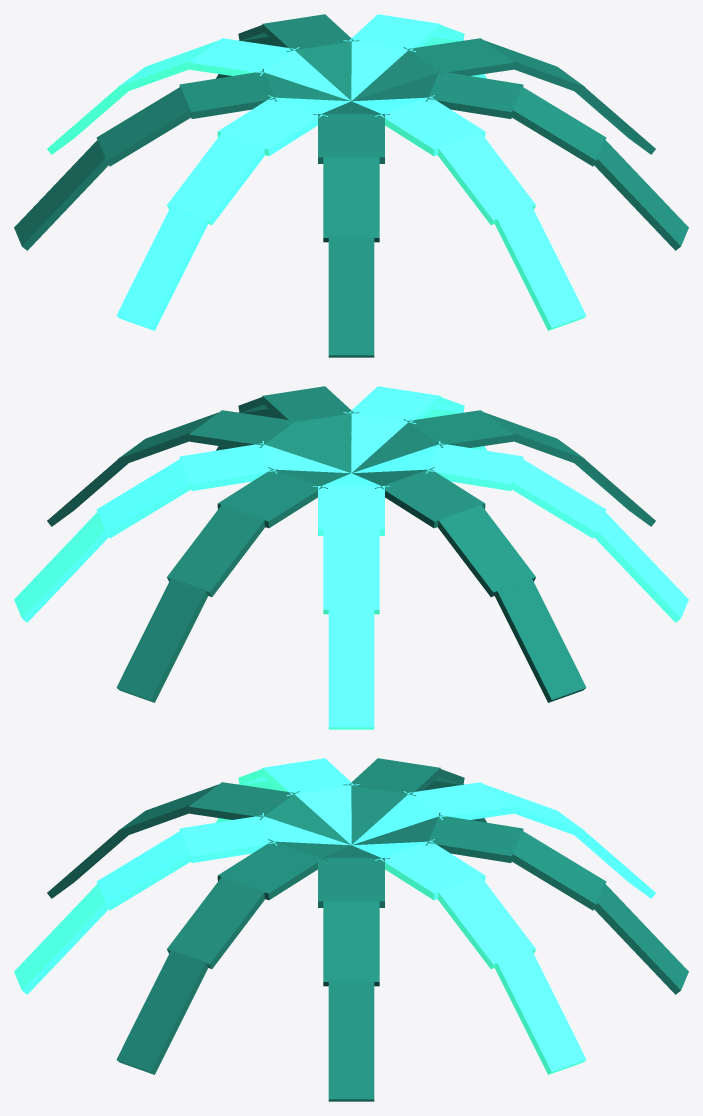
Rendered from Alien_Fern_Glow.glb.
3 renders of one model, top to bottom at view 1: azimuth 30°, elevation 25°; view 2: azimuth 150°, elevation 25°; view 3: azimuth 270°, elevation 25°, orthographic.
Visible parts, largest first — view 1: Alien_Fern_Glow; view 2: Alien_Fern_Glow; view 3: Alien_Fern_Glow.
Part boxes in pixels (box(x1,y1,x2,y2)): Alien_Fern_Glow: box(14, 14, 688, 357); Alien_Fern_Glow: box(14, 386, 688, 729); Alien_Fern_Glow: box(14, 758, 688, 1101).
Size of the model in its own units: 2.58 by 0.5916 by 2.62.
Materials: 1 (1 with a texture image).
